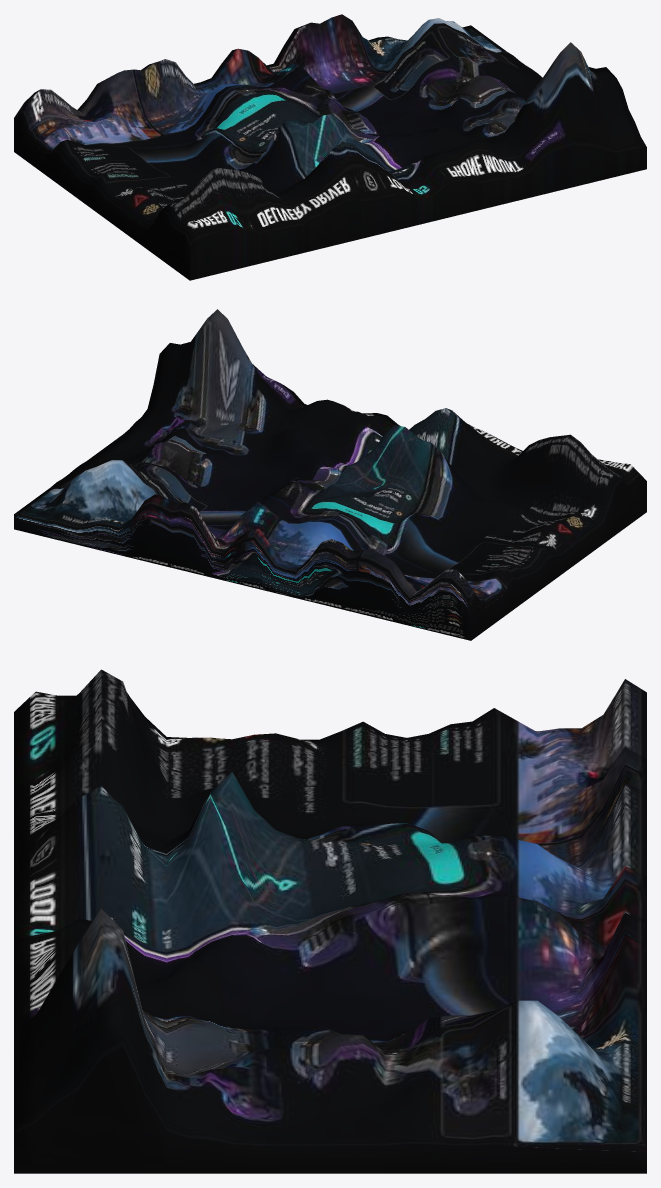
The model's file is CAREER_02_Tool_05_Phone_Mount.glb.
The picture shows the model from 3 angles, top to bottom: view 1: azimuth 30°, elevation 25°; view 2: azimuth 150°, elevation 25°; view 3: azimuth 270°, elevation 25°; orthographic projection. The views are drawn at different scales.
Visible parts, largest first — view 1: CAREER_02_Tool_05_Phone_Mount; view 2: CAREER_02_Tool_05_Phone_Mount; view 3: CAREER_02_Tool_05_Phone_Mount.
Part boxes in pixels (box(x1,y1,x2,y2)): CAREER_02_Tool_05_Phone_Mount: box(14, 14, 646, 280); CAREER_02_Tool_05_Phone_Mount: box(14, 309, 646, 640); CAREER_02_Tool_05_Phone_Mount: box(14, 669, 646, 1173).
Size of the model in its own units: 2 by 0.51 by 1.33.
1 material, 1 textured.
